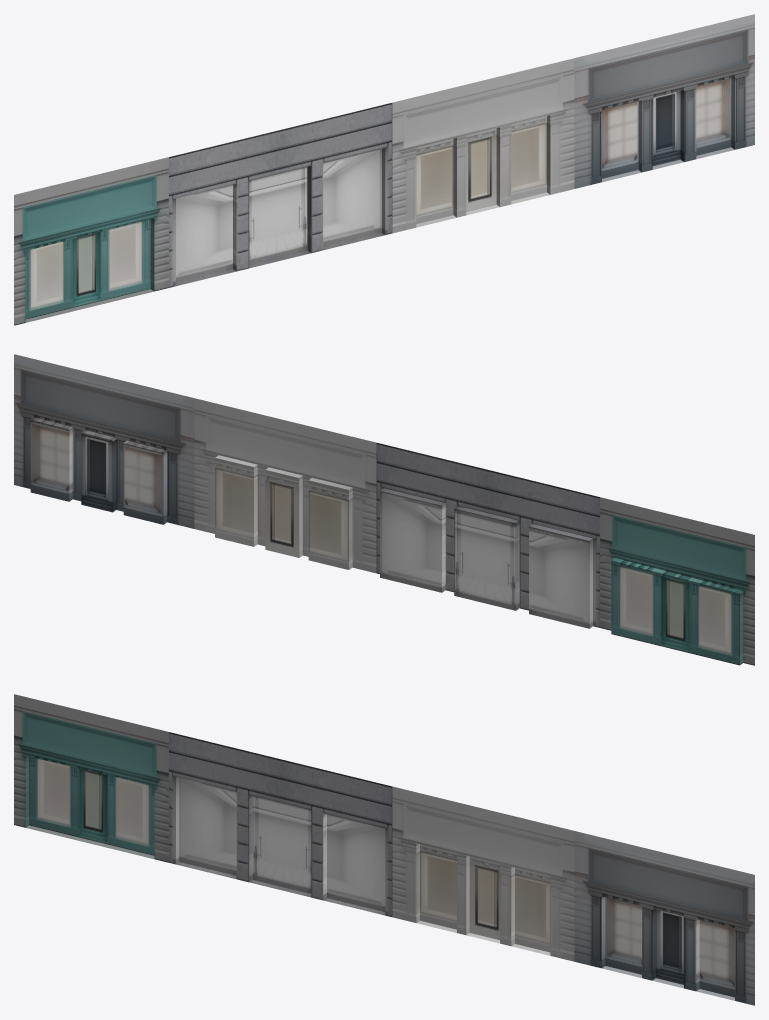
Rendered from facade.fbx.
3 renders of one model, top to bottom at view 1: azimuth 30°, elevation 25°; view 2: azimuth 150°, elevation 25°; view 3: azimuth 330°, elevation 25°, orthographic.
Visible parts, largest first — view 1: polySurface2, polySurface3, polySurface4, polySurface1; view 2: polySurface2, polySurface3, polySurface4, polySurface1; view 3: polySurface2, polySurface3, polySurface4, polySurface1.
Boxes of the visible parts, x1,y1,x2,y2 form: polySurface2: (168,103,391,287); polySurface3: (392,58,573,233); polySurface4: (574,14,754,188); polySurface1: (14,157,168,325); polySurface2: (377,443,600,628); polySurface3: (195,398,376,573); polySurface4: (14,354,194,528); polySurface1: (600,497,754,665); polySurface2: (168,732,391,916); polySurface3: (392,786,573,961); polySurface4: (574,831,754,1005); polySurface1: (14,694,168,862).
Size of the model in its own units: 1702 by 287 by 13.82.
1 material, 1 textured.
